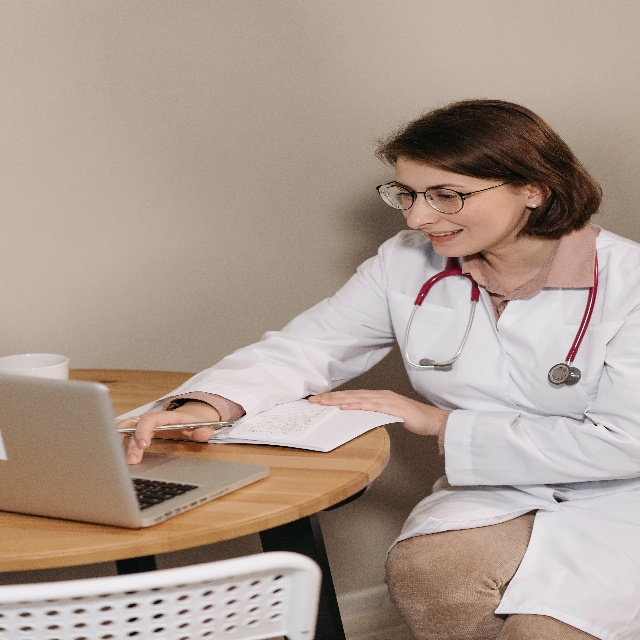Gafas: (376, 178, 514, 216)
Sin_guantes: (308, 390, 436, 436), (126, 410, 212, 466)
